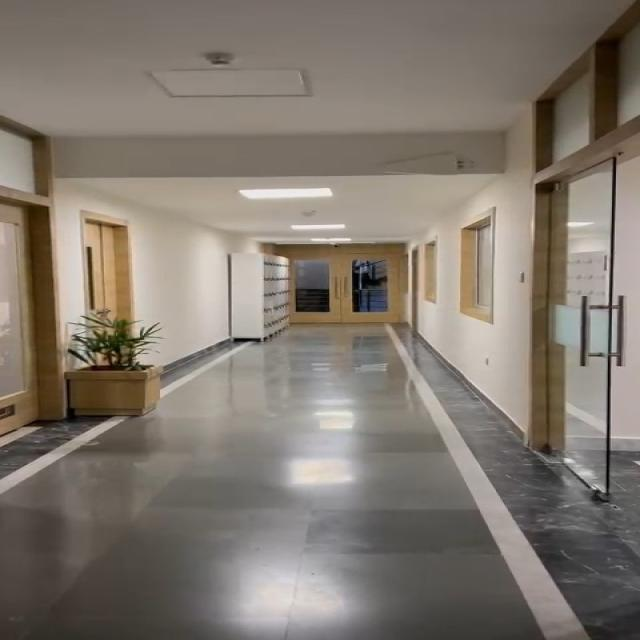door: (504, 77, 640, 512), (0, 118, 65, 443), (262, 237, 424, 334), (80, 212, 153, 320)
floor: (166, 340, 515, 640)
furniture: (62, 307, 168, 420)
